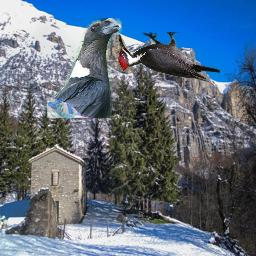Crow: (47, 18, 122, 118)
Woodpecker: (118, 32, 220, 82)
